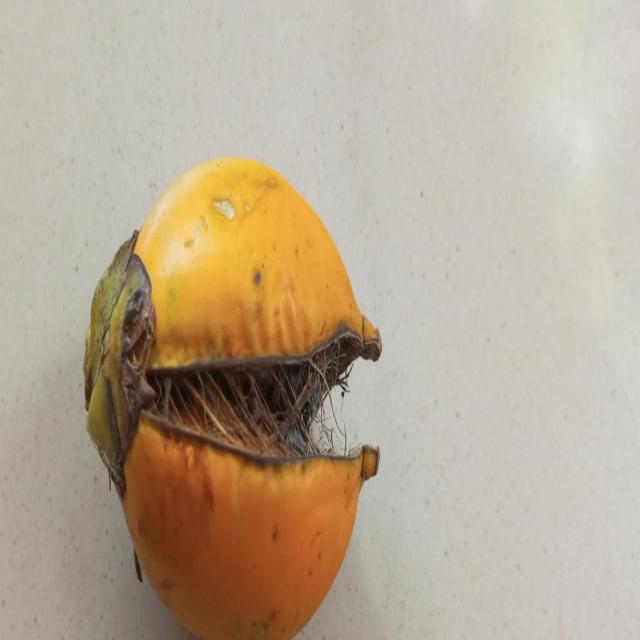damaged: (84, 158, 383, 640)
